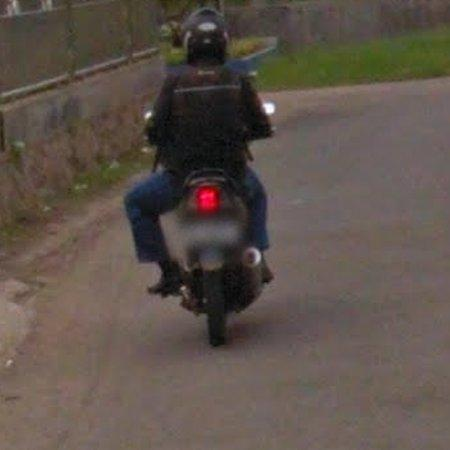motorcycles: (160, 170, 262, 346)
